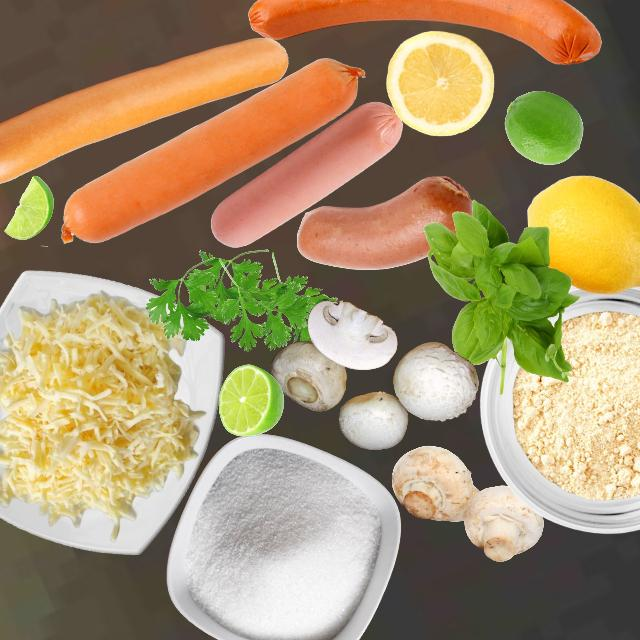Flour: (512, 309, 639, 500)
Sugar: (184, 447, 381, 639)
